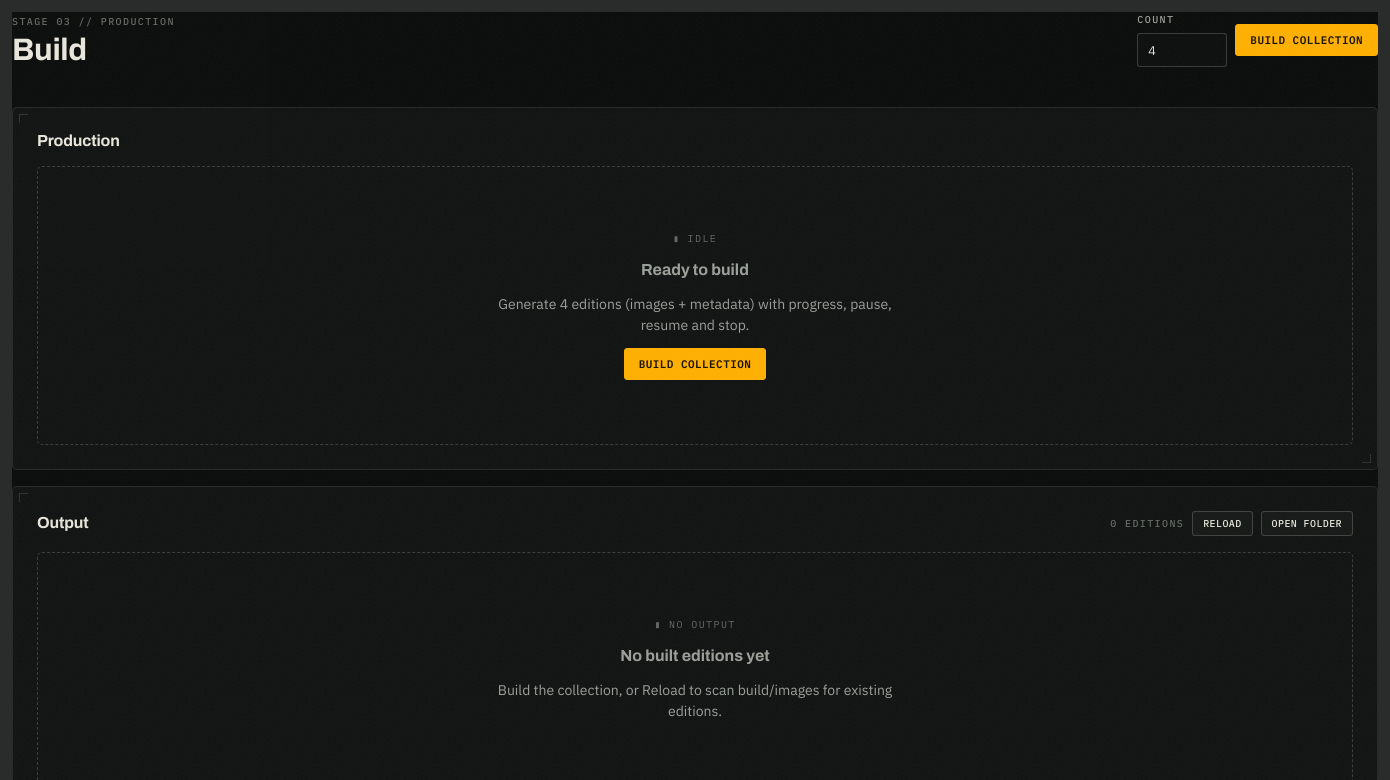
Test case: BuildScreen › builds and renders the rarity report
The image size is (1390, 780).
Expected: the text "Ready to build" is shown, x1=641 y1=258 x2=749 y2=282
Click the button "Build collection" next to "Count" at (1307, 40), box x1=1235 y1=24 x2=1378 y2=56
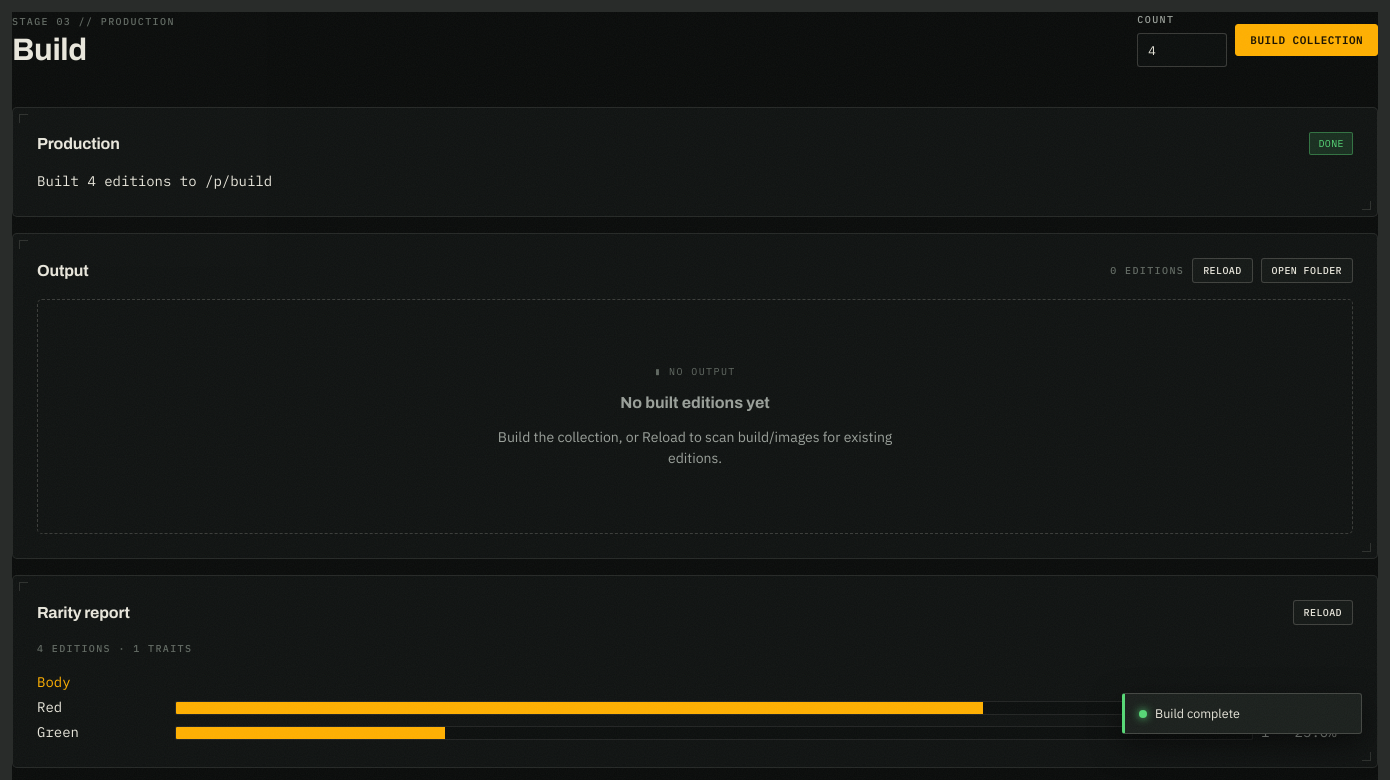
Result: the text "Built 4 editions to /p/build" is shown at x1=37 y1=172 x2=272 y2=190
Result: the text "Red" is shown at x1=37 y1=698 x2=62 y2=716
